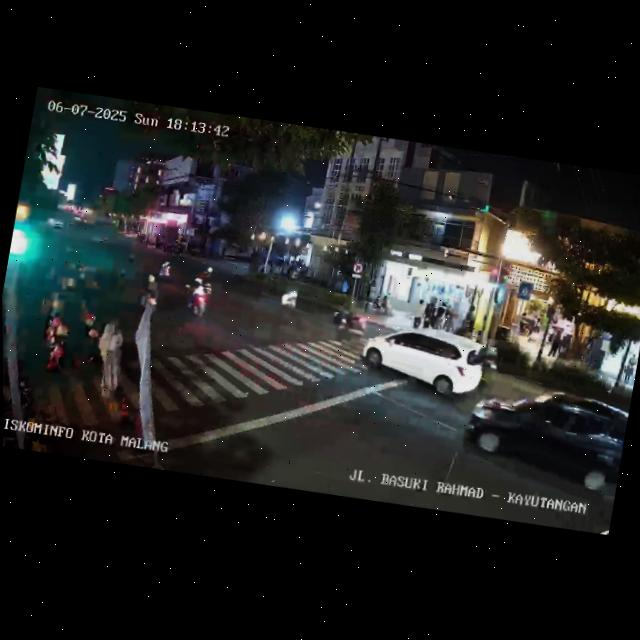car: (455, 373, 630, 505), (356, 315, 493, 409)
motorcycle: (179, 273, 211, 322), (330, 305, 367, 340), (138, 272, 164, 319), (276, 284, 302, 317), (190, 266, 216, 298), (154, 256, 177, 284)
person: (90, 316, 132, 402), (547, 327, 562, 360), (422, 296, 437, 328), (410, 297, 426, 327), (432, 304, 445, 331), (621, 359, 634, 386)
